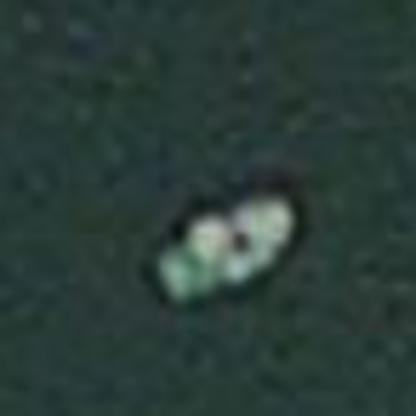ship: (136, 171, 314, 317)
